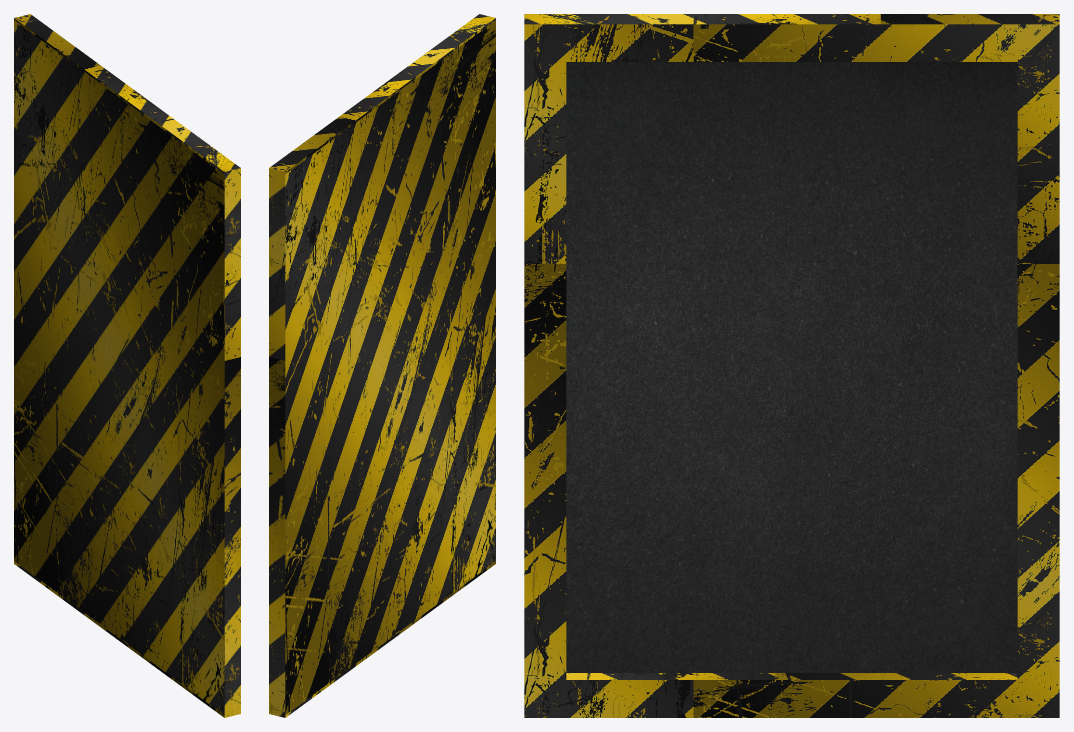
File: Hammer Frame.fbx
3 renders of one model, left to right at view 1: azimuth 30°, elevation 25°; view 2: azimuth 150°, elevation 25°; view 3: azimuth 270°, elevation 25°, orthographic. The views are drawn at different scales.
Parts seen in each view (by area): view 1: Frame Border; view 2: Frame Border; view 3: Frame, Frame Border.
Boxes of the visible parts, <box> form: Frame Border: <box>14,14,240,717</box>; Frame Border: <box>269,14,495,717</box>; Frame: <box>566,62,1017,672</box>; Frame Border: <box>524,14,1059,717</box>.
Size of the model in its own units: 1.89 by 59.9 by 41.87.
2 materials, 2 textured.
